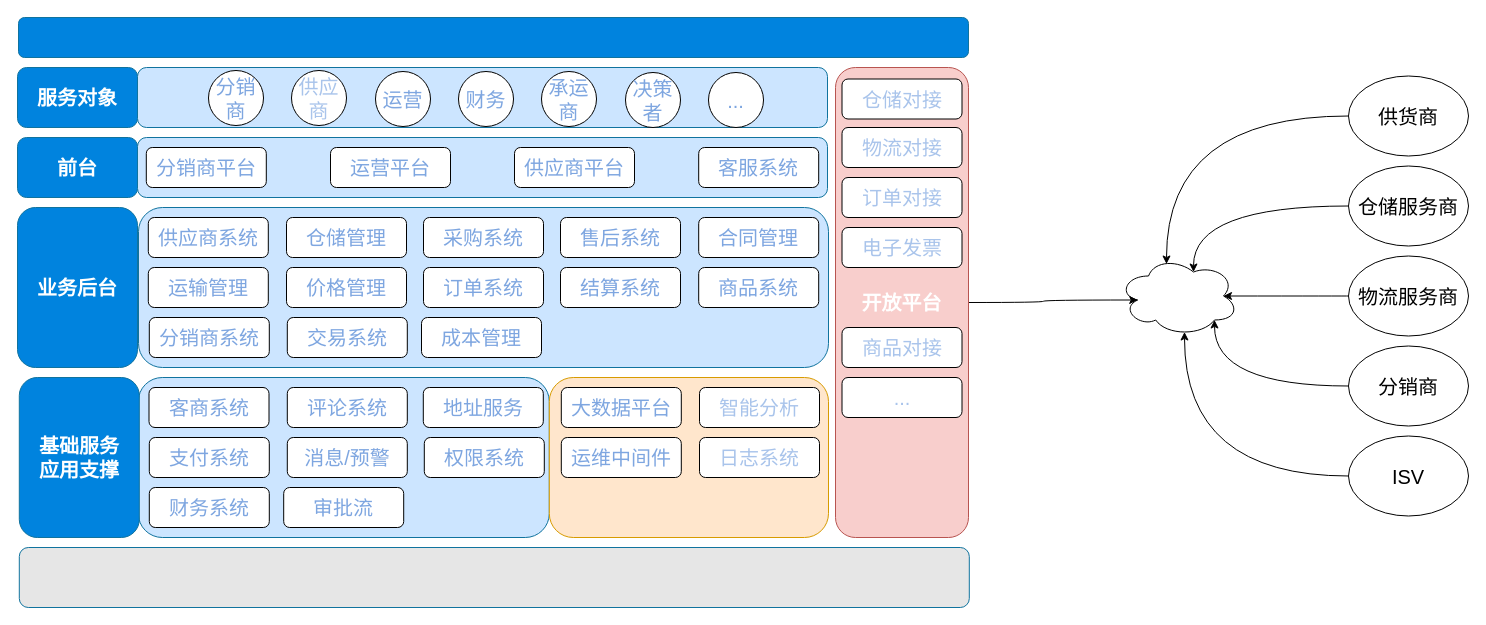
This 1486x625 diagram has some shape labels left out. The shapes that lost their labels are listed below. From the top down, each one's centre as x and y in pixels, then its label:
[493,37]: 供应链系统架构图
[1178,295]: internet
[493,577]: 基础运维
